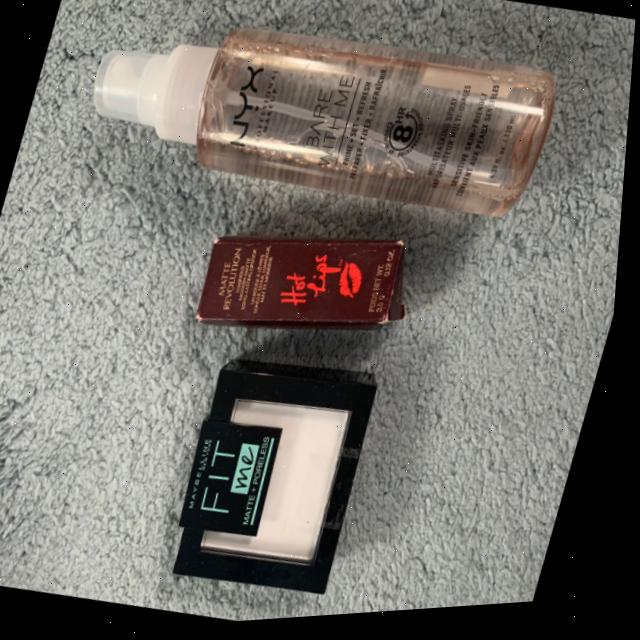lip stick: (162, 198, 452, 376)
powder: (153, 337, 419, 628)
setting spray: (47, 0, 581, 279)
